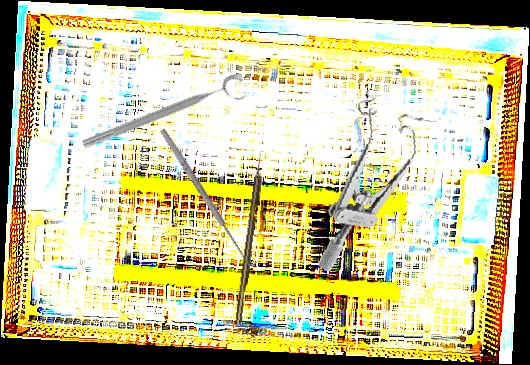Fixation Ring: (80, 71, 250, 163)
Hook Surgical: (157, 124, 260, 270), (234, 152, 266, 325)
Speculum: (316, 86, 428, 283)
